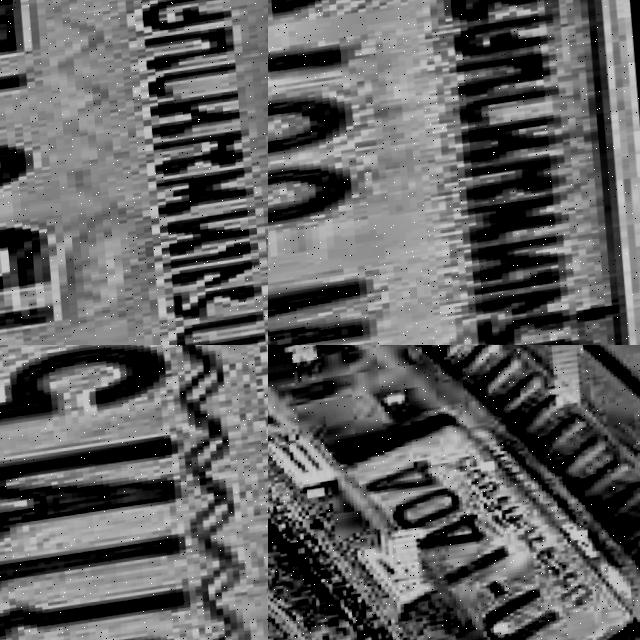license-plate: (268, 0, 640, 345), (0, 0, 268, 345), (316, 385, 640, 640), (0, 345, 268, 640)
